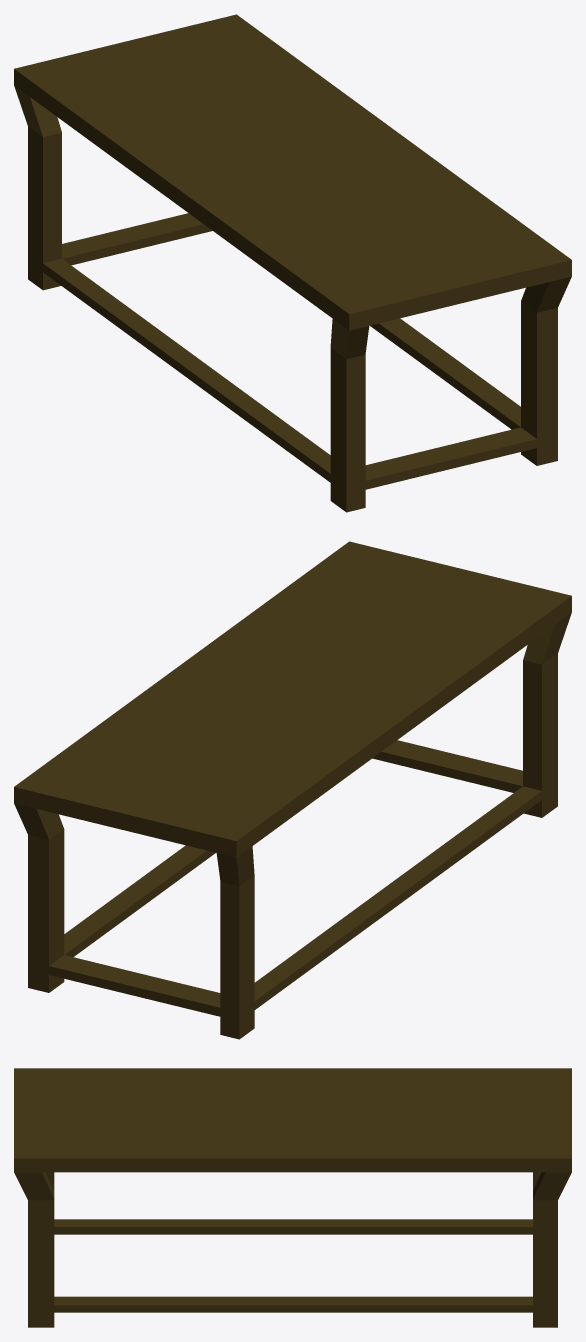
The model's file is Table2.fbx.
The picture shows the model from 3 angles, top to bottom: view 1: azimuth 30°, elevation 25°; view 2: azimuth 150°, elevation 25°; view 3: azimuth 270°, elevation 25°; orthographic projection. The views are drawn at different scales.
Visible parts, largest first — view 1: Cube; view 2: Cube; view 3: Cube.
Part boxes in pixels (box(x1,y1,x2,y2)): Cube: box(14, 14, 571, 512); Cube: box(14, 541, 571, 1039); Cube: box(14, 1068, 571, 1327).
Bounding box in the file's own units: 59.94 × 52.93 × 156.
